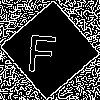F: (25, 25, 59, 73)
